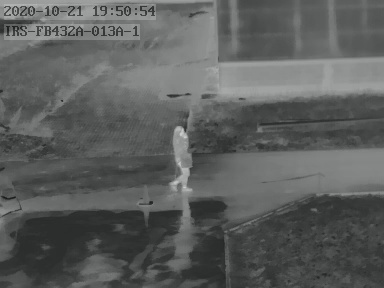person: (170, 125, 192, 194)
